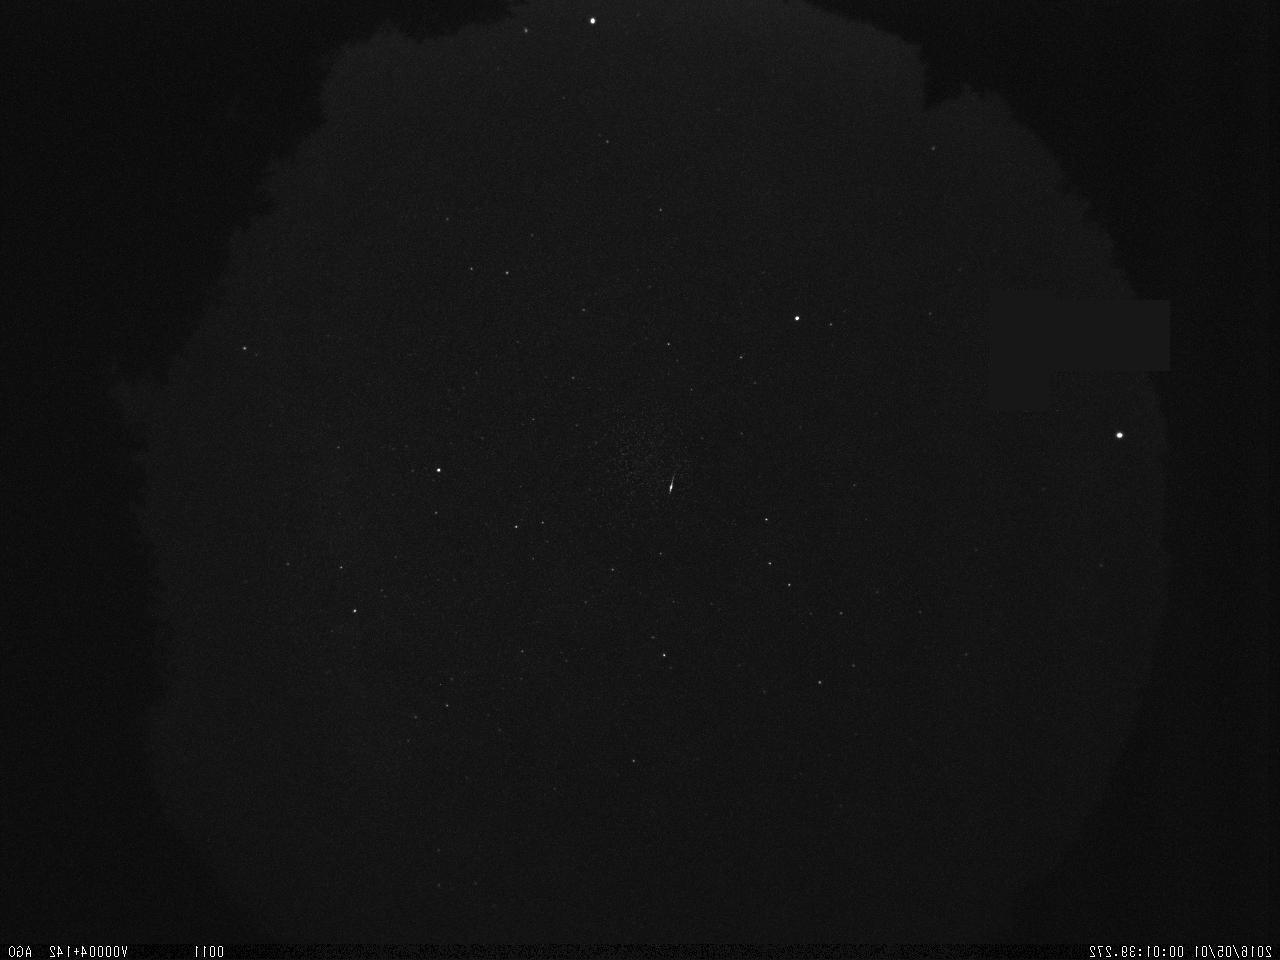meteor: (659, 460, 689, 504)
